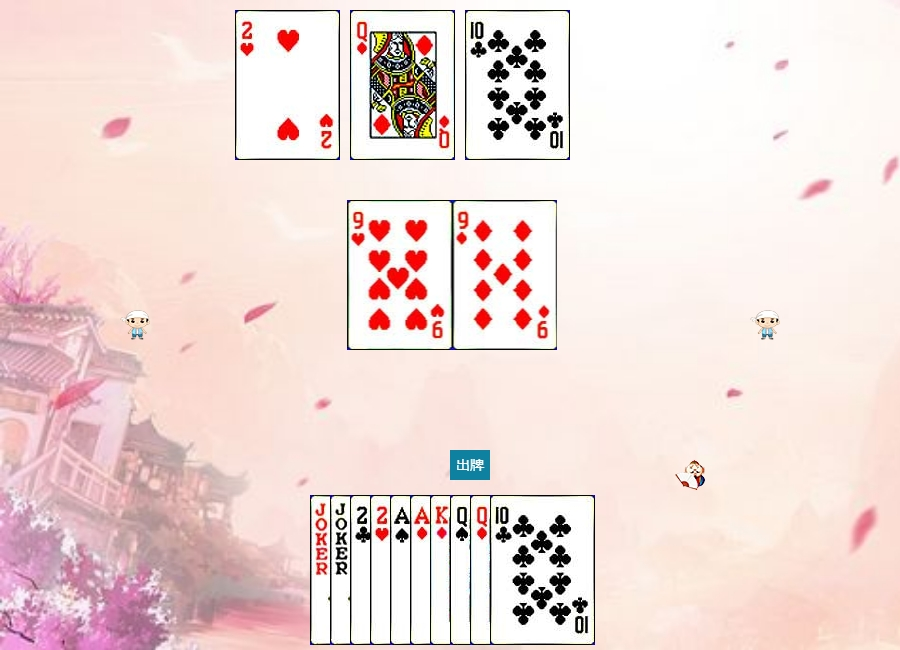10~2: (465, 10, 570, 160), (490, 495, 595, 645)
12~1: (350, 10, 455, 160), (470, 495, 575, 645)
12~4: (450, 495, 555, 645)
13~1: (430, 495, 535, 645)
14~1: (410, 495, 515, 645)
14~4: (390, 495, 495, 645)
15~2: (350, 495, 455, 645)
15~3: (235, 10, 340, 160), (370, 495, 475, 645)
17~3: (330, 495, 435, 645)
18~4: (310, 495, 415, 645)
9~1: (453, 200, 558, 350)
9~3: (348, 200, 453, 350)
